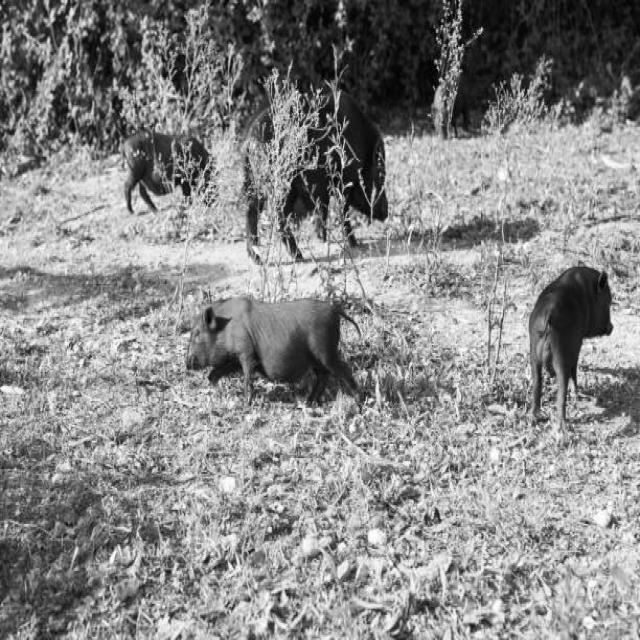boar: (185, 295, 359, 400), (278, 89, 386, 257), (185, 295, 357, 400), (528, 262, 611, 439), (121, 130, 209, 210), (239, 100, 272, 257)
